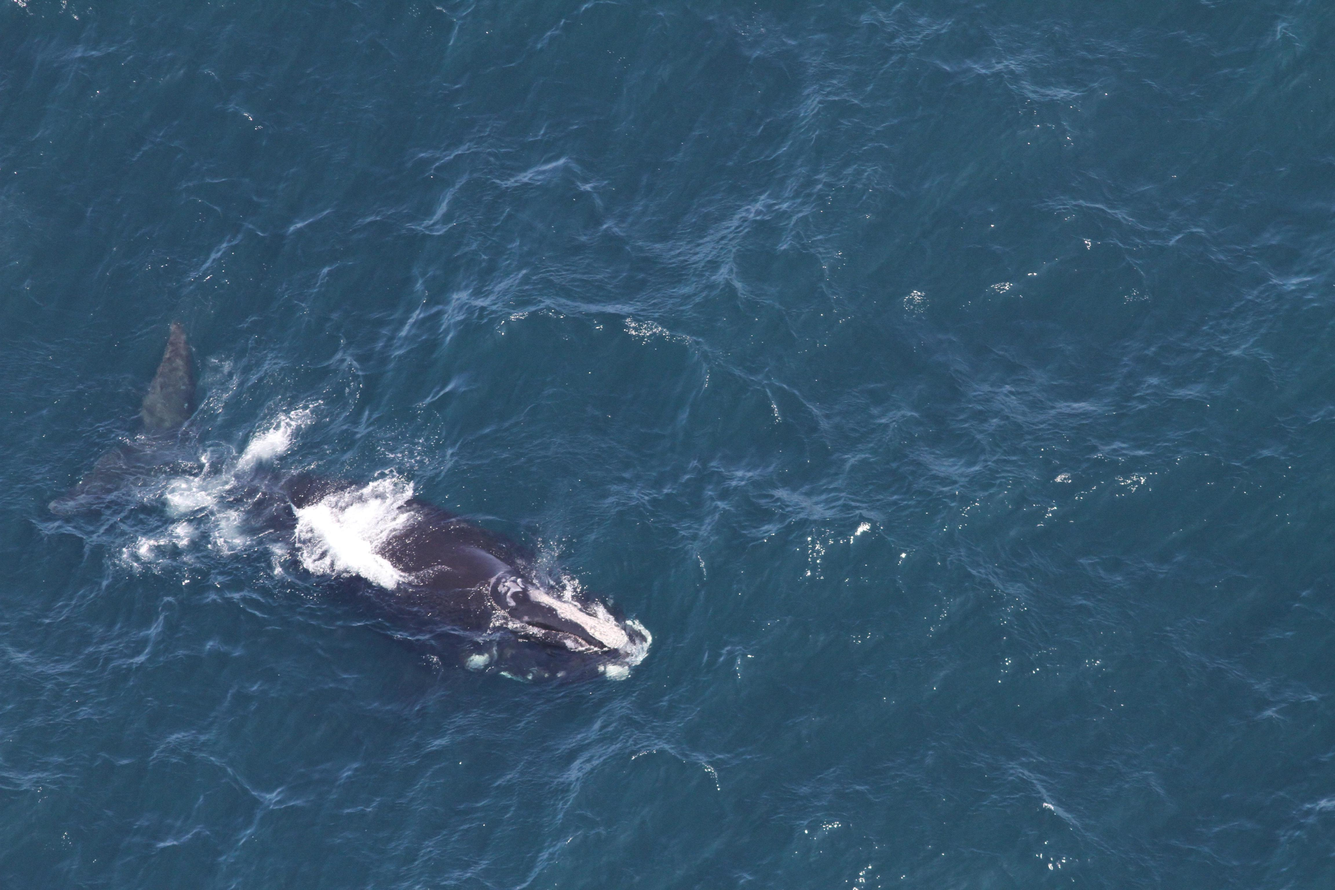whale: (21, 314, 659, 696)
